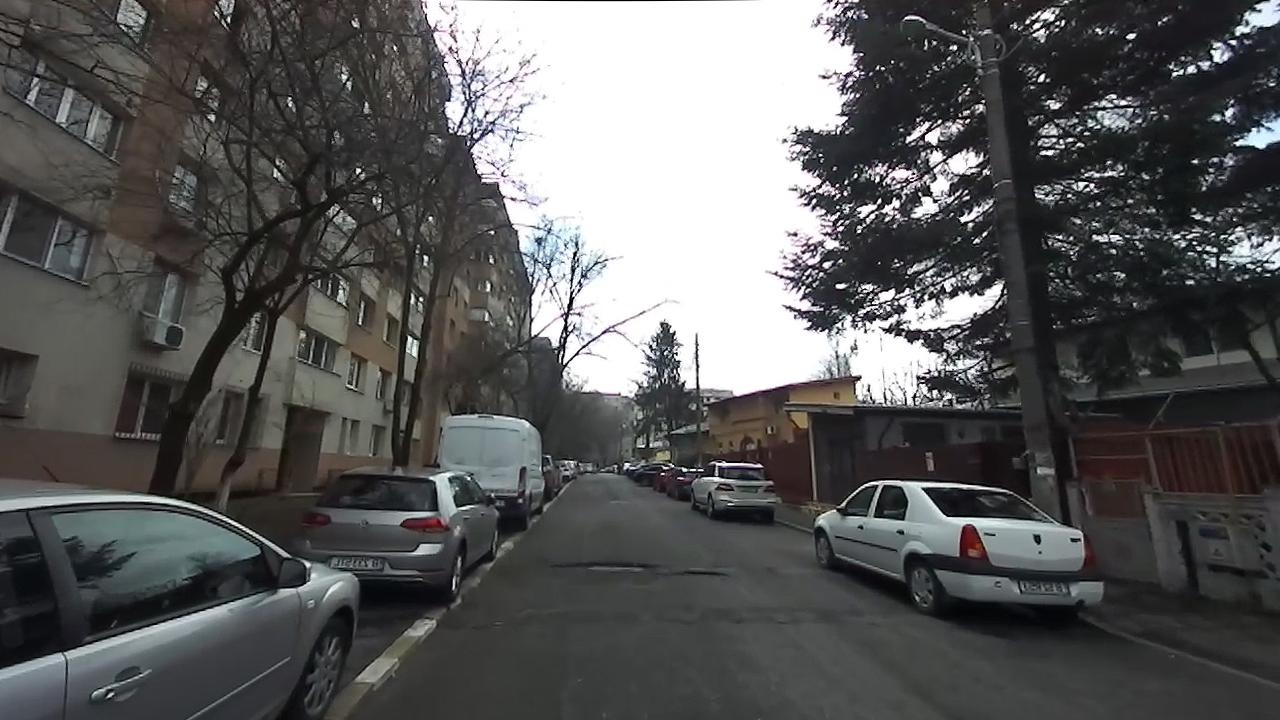pothole: (545, 556, 653, 577), (670, 566, 727, 579)
